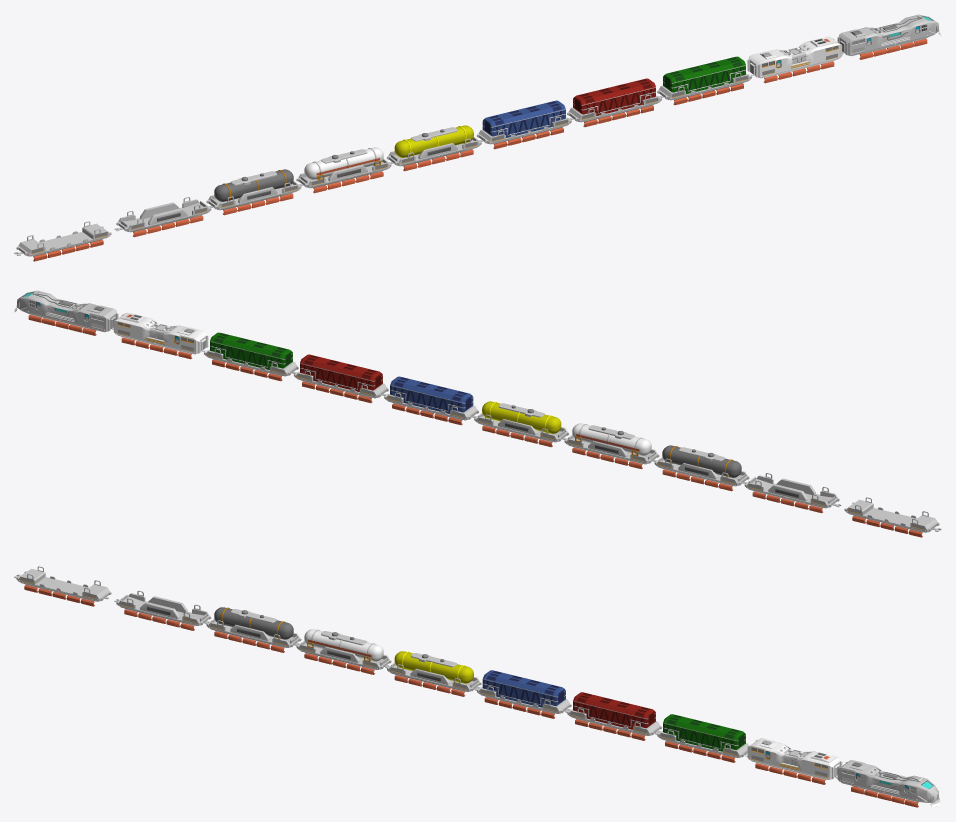
3 views of the same model, one above another, from view 1: azimuth 30°, elevation 25°; view 2: azimuth 150°, elevation 25°; view 3: azimuth 330°, elevation 25° (orthographic).
Parts seen in each view (by area): view 1: truck train wagon 4, truck train wagon 3, truck train wagon 2, truck train, truck train wagon 1, truck train tank 2, truck train tank 1, truck train tank 3, train platform 1, train platform 2; view 2: truck train wagon 4, truck train wagon 3, truck train wagon 2, truck train, truck train wagon 1, truck train tank 2, truck train tank 1, truck train tank 3, train platform 1, train platform 2; view 3: truck train, truck train wagon 4, truck train wagon 3, truck train wagon 2, truck train wagon 1, truck train tank 1, truck train tank 2, truck train tank 3, train platform 1, train platform 2.
Part boxes in pixels (bbox=[...]): truck train wagon 4: bbox=[477, 100, 571, 149]; truck train wagon 3: bbox=[567, 78, 661, 127]; truck train wagon 2: bbox=[657, 56, 751, 105]; truck train: bbox=[837, 14, 941, 59]; truck train wagon 1: bbox=[747, 36, 842, 83]; truck train tank 2: bbox=[296, 147, 391, 193]; truck train tank 1: bbox=[387, 125, 481, 171]; truck train tank 3: bbox=[206, 169, 301, 215]; train platform 1: bbox=[114, 197, 211, 237]; train platform 2: bbox=[14, 221, 111, 261]; truck train wagon 4: bbox=[384, 376, 478, 425]; truck train wagon 3: bbox=[294, 354, 388, 403]; truck train wagon 2: bbox=[204, 332, 298, 381]; truck train: bbox=[14, 290, 118, 335]; truck train wagon 1: bbox=[113, 312, 208, 359]; truck train tank 2: bbox=[564, 423, 659, 469]; truck train tank 1: bbox=[474, 401, 568, 447]; truck train tank 3: bbox=[654, 445, 749, 491]; train platform 1: bbox=[744, 473, 841, 513]; train platform 2: bbox=[844, 497, 941, 537]; truck train: bbox=[835, 760, 941, 807]; truck train wagon 4: bbox=[474, 670, 571, 718]; truck train wagon 3: bbox=[564, 692, 662, 740]; truck train wagon 2: bbox=[654, 714, 749, 762]; truck train wagon 1: bbox=[745, 738, 842, 784]; truck train tank 1: bbox=[385, 651, 481, 696]; truck train tank 2: bbox=[294, 629, 391, 674]; truck train tank 3: bbox=[204, 607, 301, 652]; train platform 1: bbox=[114, 590, 211, 630]; train platform 2: bbox=[14, 566, 111, 606].
Bounding box in the file's own units: 33.62 × 0.9931 × 0.7394.
Materials: 11 (10 with a texture image).
